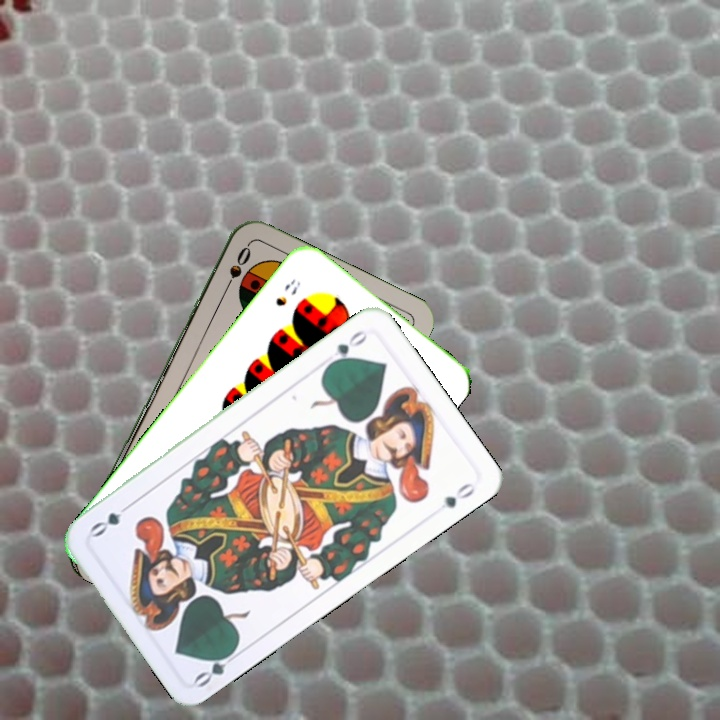GO: (190, 644, 244, 690), (323, 326, 370, 370)
S8: (271, 275, 304, 309)
SO: (219, 241, 254, 297)
